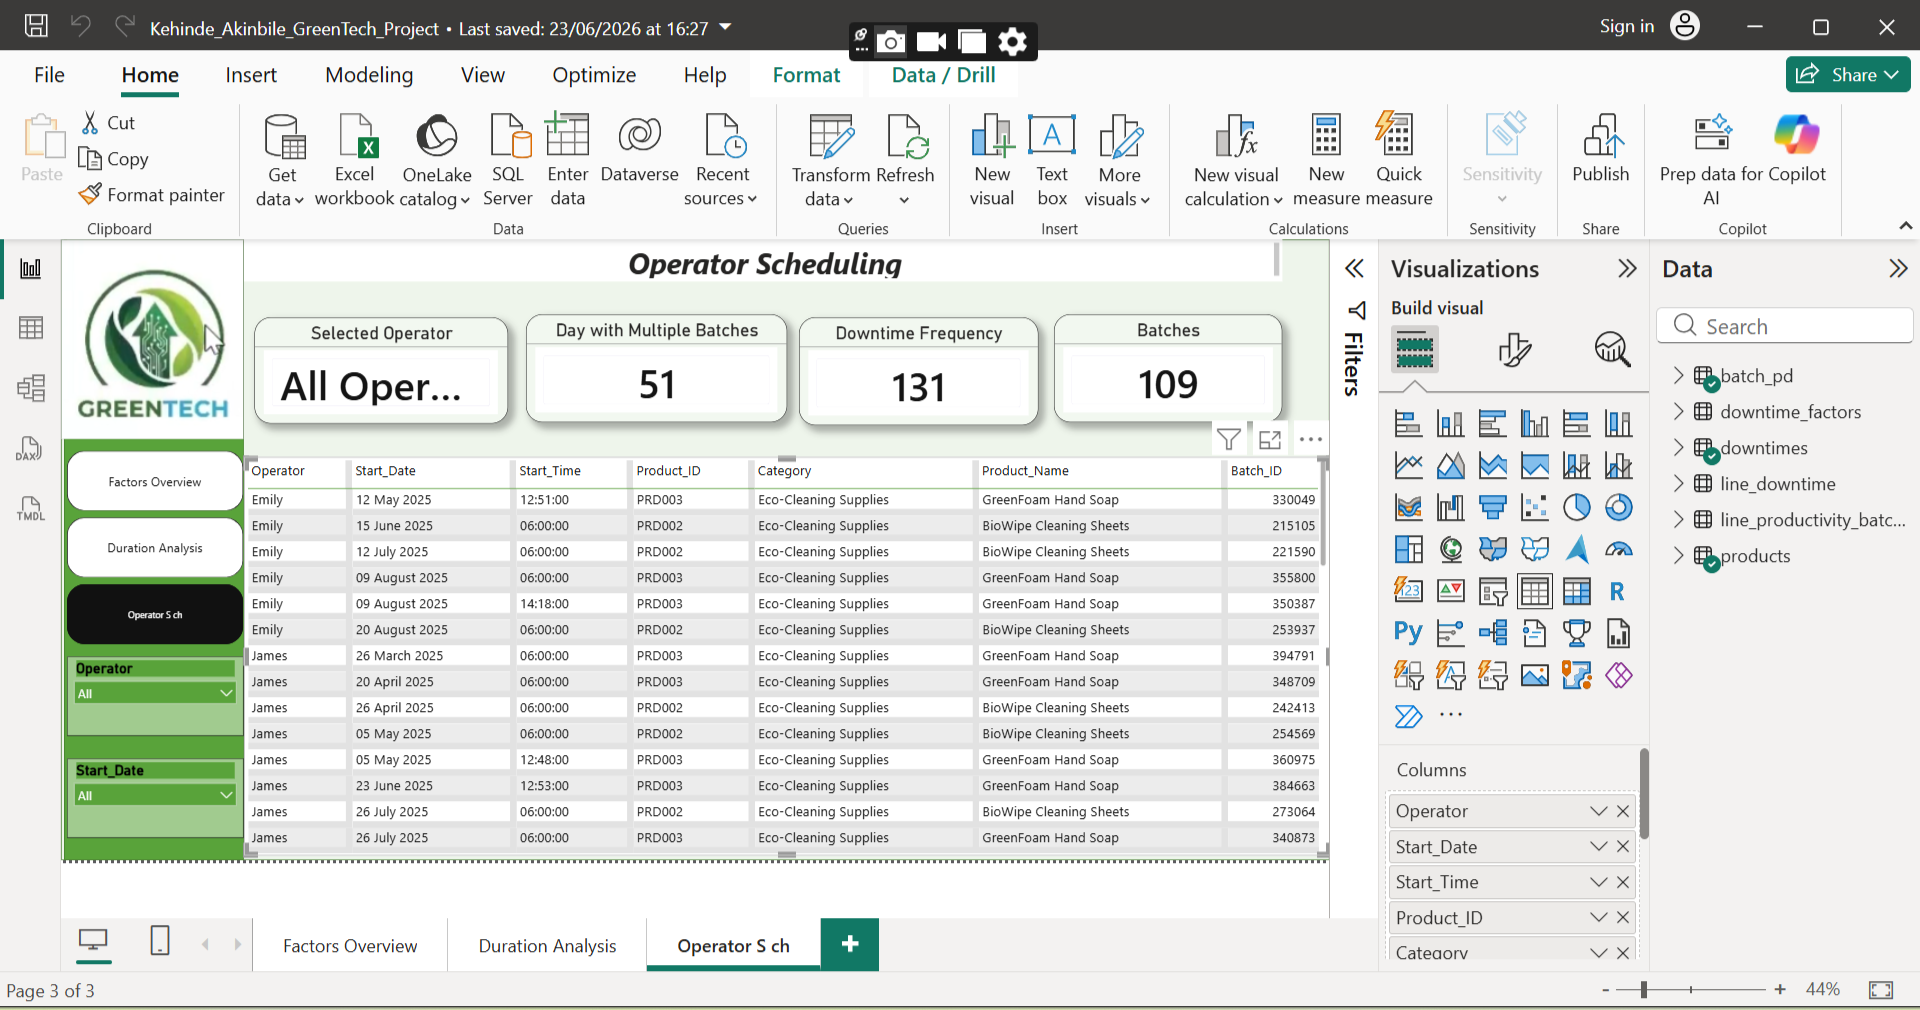

The dashboard page shown, as its layout file describes it:
{"tool":"powerbi","page":{"name":"Operator S ch","canvas":[1900,930],"ordinal":2},"visuals":[{"type":"shape","box":[0,0,1900.8,930.5],"z":0},{"type":"shape","box":[4.7,0,4.7,928.1],"z":1000},{"type":"cardVisual","title":"Batches","fields":{"Data":["CountNonNull(batch_pd.Batch_ID)"]},"box":[1488.3,112.5,342.2,161.7],"z":2000},{"type":"shape","box":[4.7,2.3,269.5,928.1],"z":3000},{"type":"textbox","box":[274.2,0,1556.3,63.3],"z":4000},{"type":"cardVisual","title":"Selected Operator","fields":{"Data":["batch_pd.Selected Operator"]},"box":[290.6,117.2,379.7,159.4],"z":5000},{"type":"cardVisual","title":"Day with Multiple Batches","fields":{"Data":["Count(batch_pd.Start_Date)"]},"box":[696.1,112.5,391.4,161.7],"z":6000},{"type":"cardVisual","title":"Downtime Frequency","fields":{"Data":["CountNonNull(downtimes.Factor_ID)"]},"box":[1106.3,117.2,358.6,161.7],"z":7000},{"type":"slicer","fields":{"Values":["batch_pd.Operator"]},"box":[9.4,625.8,264.8,119.5],"z":8000},{"type":"slicer","fields":{"Values":["batch_pd.Start_Date"]},"box":[9.4,778.1,264.8,119.5],"z":9000},{"type":"image","box":[0,0,274.2,300],"z":10000},{"type":"pageNavigator","box":[9.4,316.4,264.8,290.6],"z":11000},{"type":"tableEx","fields":{"Values":["batch_pd.Operator","batch_pd.Start_Date","batch_pd.Start_Time","batch_pd.Product_ID","products.Category","products.Product_Name","downtimes.Batch_ID"]},"box":[274.2,325.8,1626.6,597.7],"z":12000}]}

Visuals, with their boxes on the page's 1900x930 design canvas (x1, y1, x2, y2). These are canvas units, not pixel positions in the 1920x1010 screenshot, which may show the page scaled, cropped or inside an application window:
shape: (0,0,1901,930)
shape: (5,0,9,928)
"Batches" cardVisual: (1488,112,1830,274)
shape: (5,2,274,930)
textbox: (274,0,1830,63)
"Selected Operator" cardVisual: (291,117,670,277)
"Day with Multiple Batches" cardVisual: (696,112,1088,274)
"Downtime Frequency" cardVisual: (1106,117,1465,279)
slicer - batch_pd.Operator: (9,626,274,745)
slicer - batch_pd.Start_Date: (9,778,274,898)
image: (0,0,274,300)
pageNavigator: (9,316,274,607)
tableEx - batch_pd.Operator x batch_pd.Start_Date: (274,326,1901,924)
